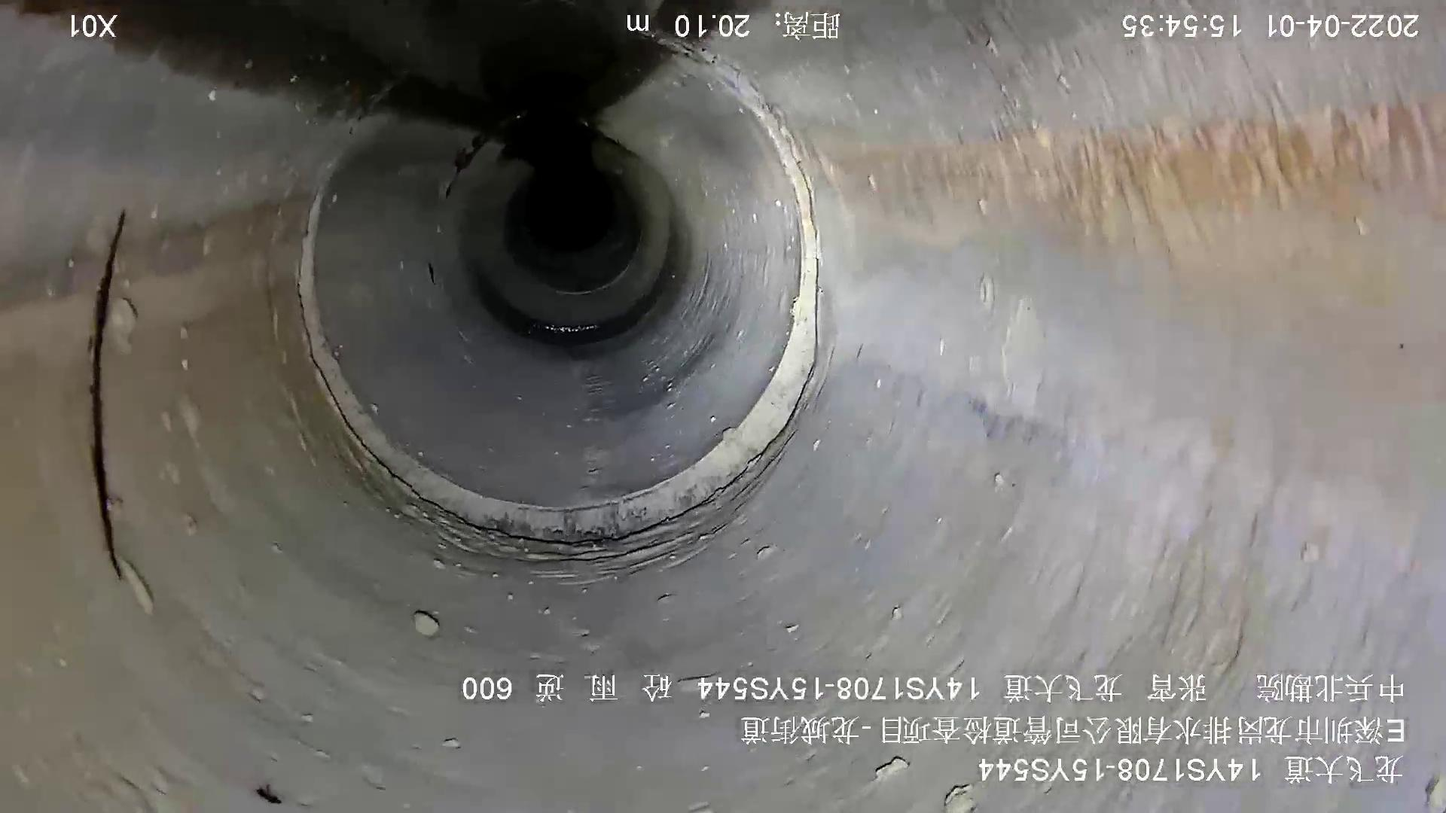CKTJ: (297, 38, 820, 542)
PL: (87, 212, 127, 580), (138, 585, 154, 610)
